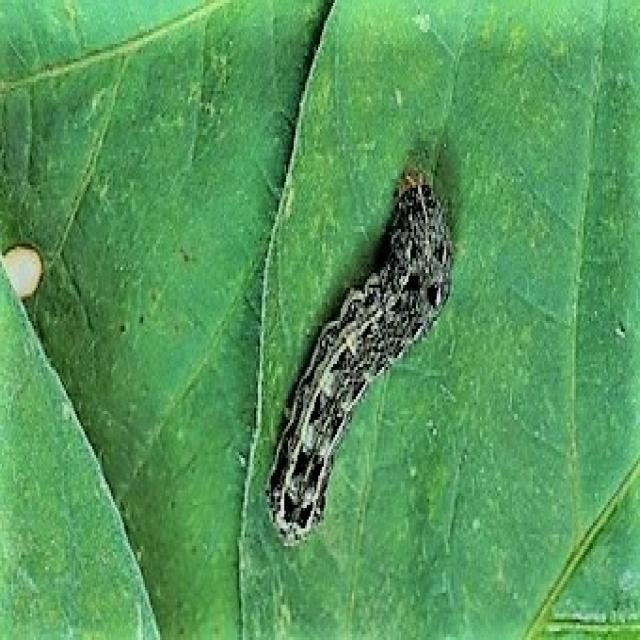armyworm: (264, 162, 454, 546)
